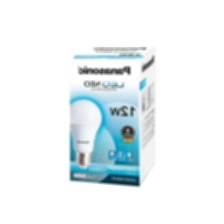carton: (63, 38, 158, 192)
